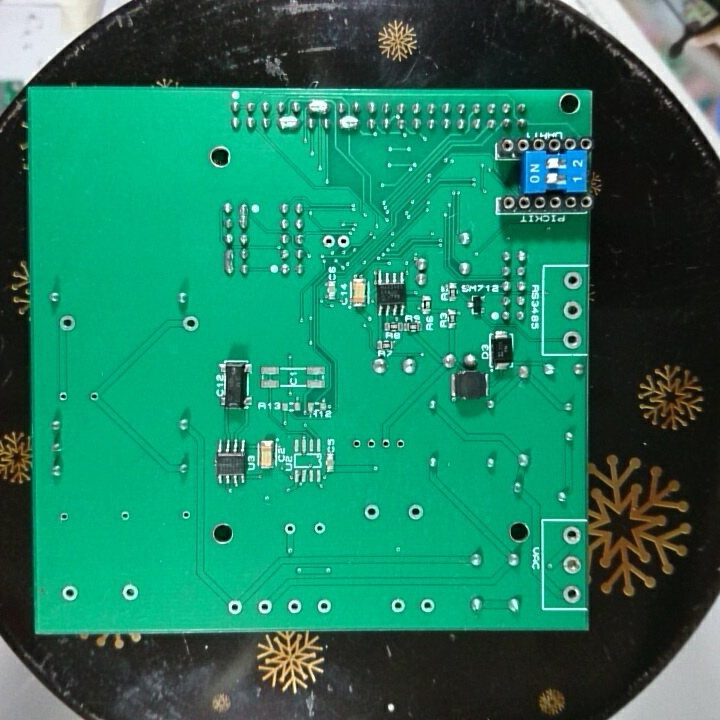F: (560, 327, 584, 351), (119, 581, 142, 604), (56, 311, 79, 334), (561, 269, 583, 292), (59, 582, 80, 606), (562, 298, 582, 323), (562, 553, 582, 577), (284, 597, 305, 618), (561, 524, 581, 546), (417, 596, 437, 618), (405, 500, 425, 522), (253, 597, 275, 616), (362, 501, 382, 521), (181, 313, 199, 335), (562, 584, 581, 604), (388, 596, 407, 616), (314, 597, 334, 616), (319, 232, 337, 252), (225, 597, 242, 617), (117, 507, 134, 526), (336, 231, 351, 251), (55, 509, 72, 526), (377, 435, 393, 453), (282, 520, 297, 538), (55, 389, 71, 405), (311, 520, 326, 537), (394, 435, 407, 454), (88, 388, 101, 406), (364, 434, 377, 452), (350, 435, 362, 453), (179, 506, 191, 523)
P: (277, 114, 301, 135), (306, 97, 331, 117), (221, 246, 236, 278), (334, 115, 360, 133), (237, 201, 251, 232)
